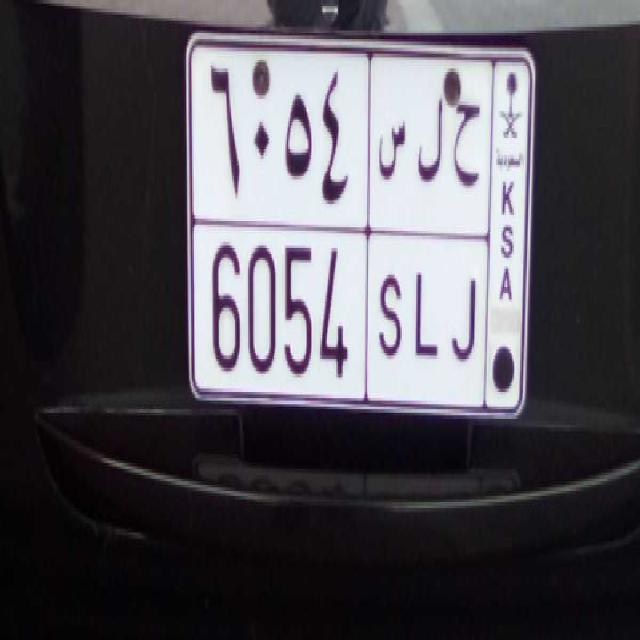license_plate: (195, 218, 482, 409)
